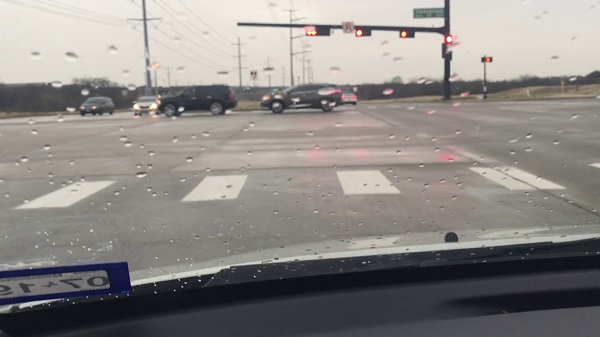car: (160, 88, 237, 117), (261, 86, 340, 112), (79, 96, 114, 113), (133, 96, 158, 115), (343, 90, 356, 102)
